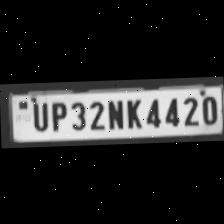0: (198, 92, 218, 125)
2: (85, 97, 105, 130), (180, 93, 198, 126)
3: (66, 98, 86, 131)
4: (141, 94, 161, 127), (160, 93, 180, 126)
K: (122, 96, 142, 129)
N: (104, 96, 124, 130)
P: (46, 97, 68, 130)
U: (28, 98, 48, 131)
